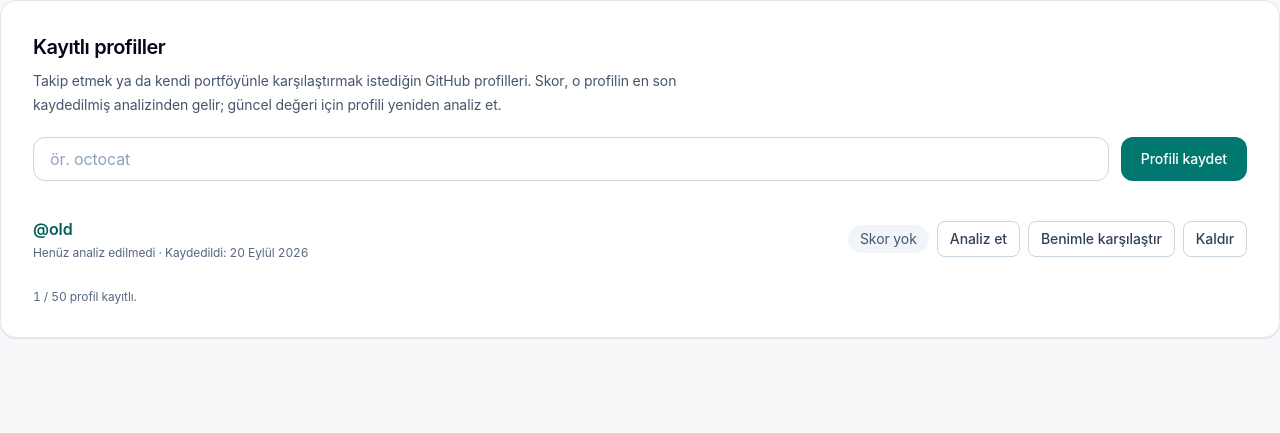
Test: SavedProfiles › adds a profile (a pasted link is reduced to the login) and puts it first
Check: the link "@old" is shown, box [33,219,73,239]
Type "https://github.com/torvalds" into the field named "Kaydedilecek GitHub kullanıcı adı" at (571, 159), box [33,137,1109,181]
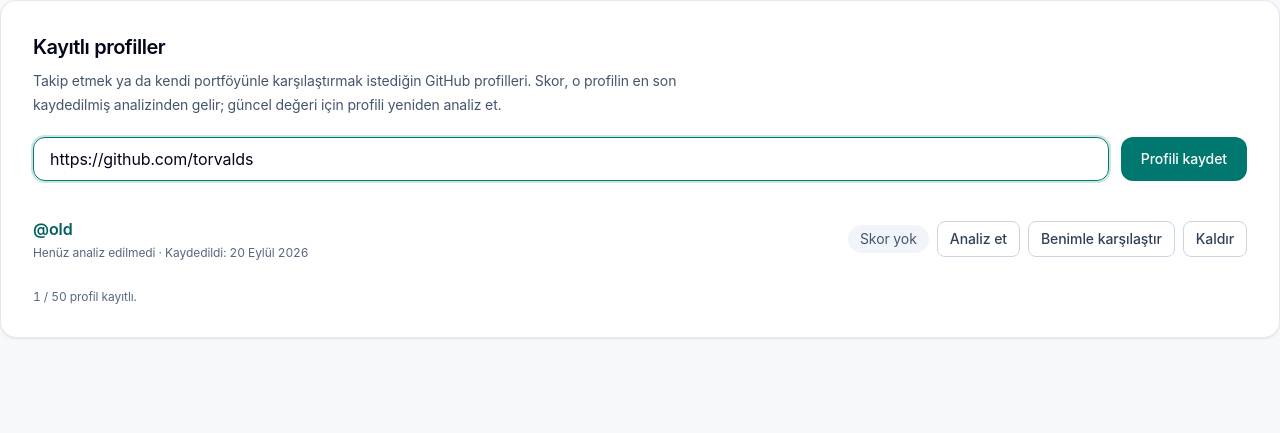
Click the button "Profili kaydet" at (1184, 159), box [1121,137,1247,181]
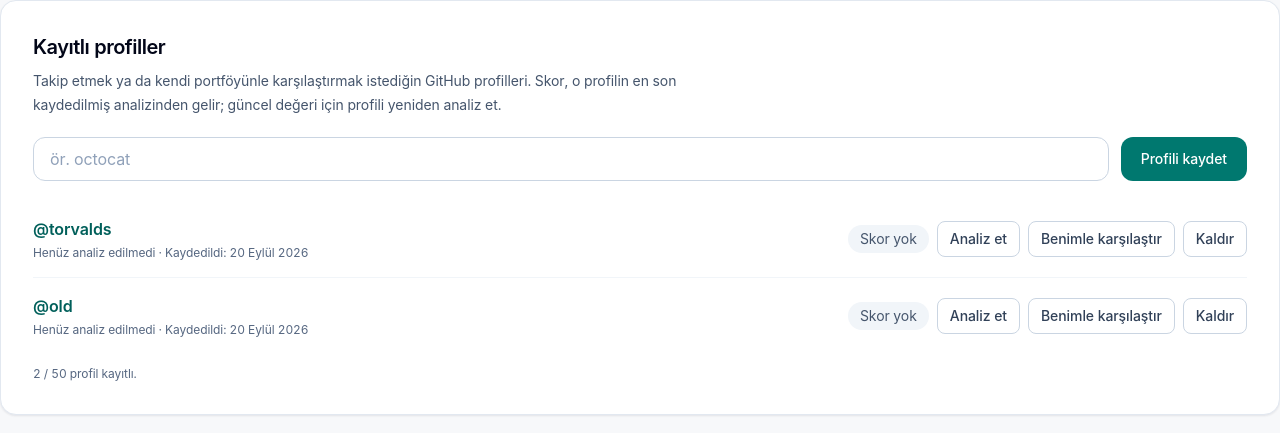
Check: the link "@torvalds" is shown, box [33,219,112,239]
Check: the field named "Kaydedilecek GitHub kullanıcı adı" is empty, box [33,137,1109,181]
